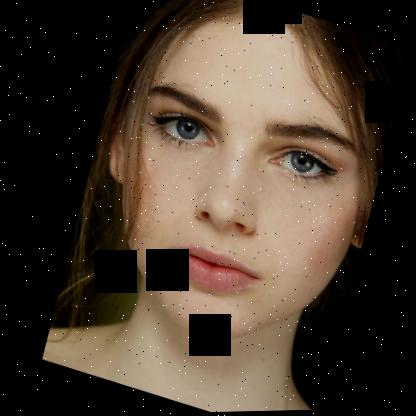Female: (46, 0, 416, 376)
